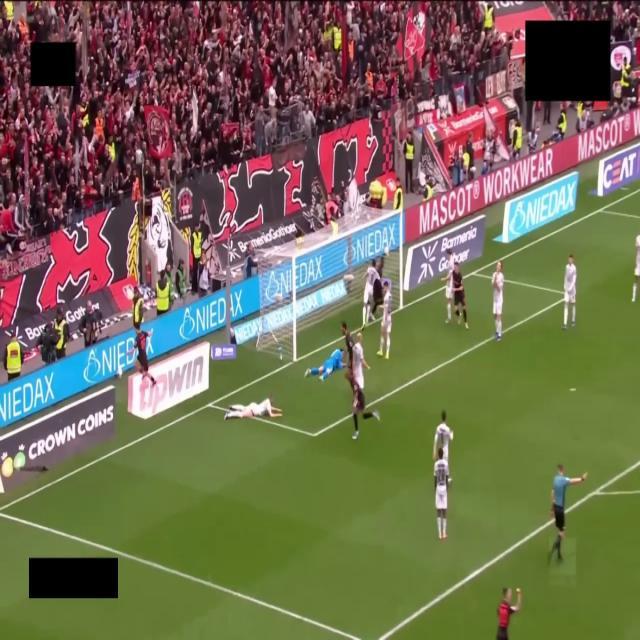player: (352, 334, 379, 439), (127, 329, 155, 385), (434, 448, 448, 539), (497, 588, 521, 639), (224, 398, 282, 419), (305, 349, 344, 380), (378, 282, 392, 359), (363, 260, 379, 327), (452, 263, 468, 329), (433, 411, 453, 461), (563, 255, 576, 329), (492, 261, 504, 340), (442, 249, 454, 323), (371, 257, 384, 320), (342, 321, 353, 382), (632, 235, 639, 302)
referee: (549, 464, 587, 561)
